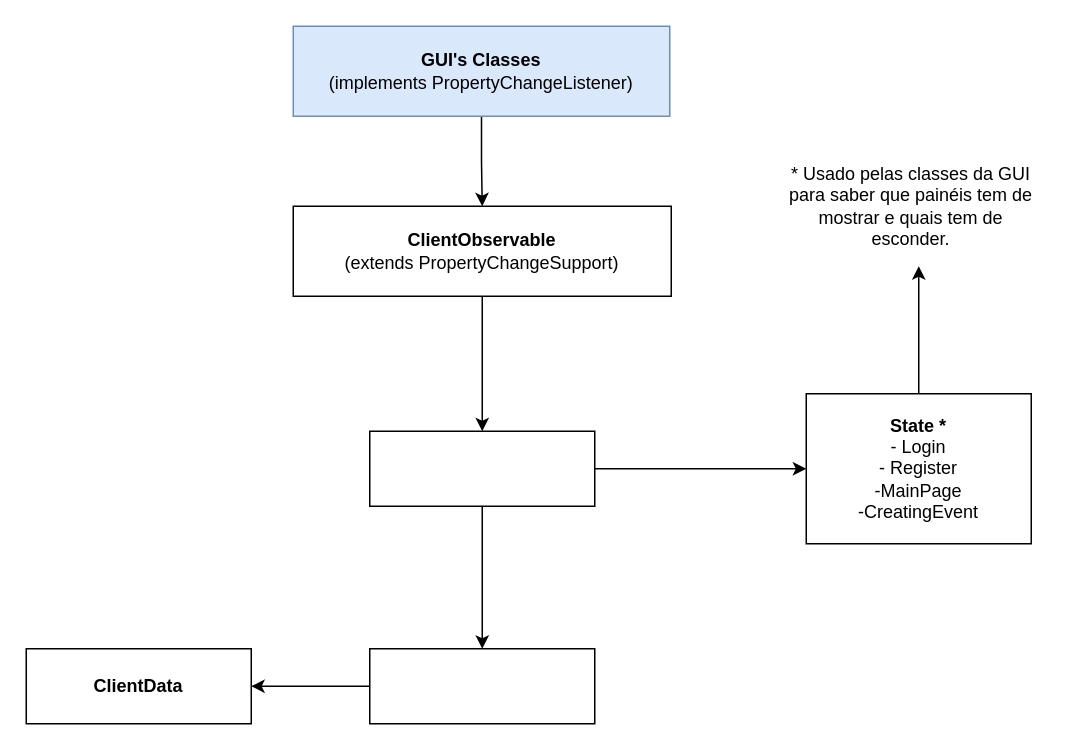
Image size: 1073x750. Some labels were removed from this diagram. The centre of each missing label's shape, as x and y in pixels:
ClientCommunication: the point at 481,685
ClientController: the point at 481,468
